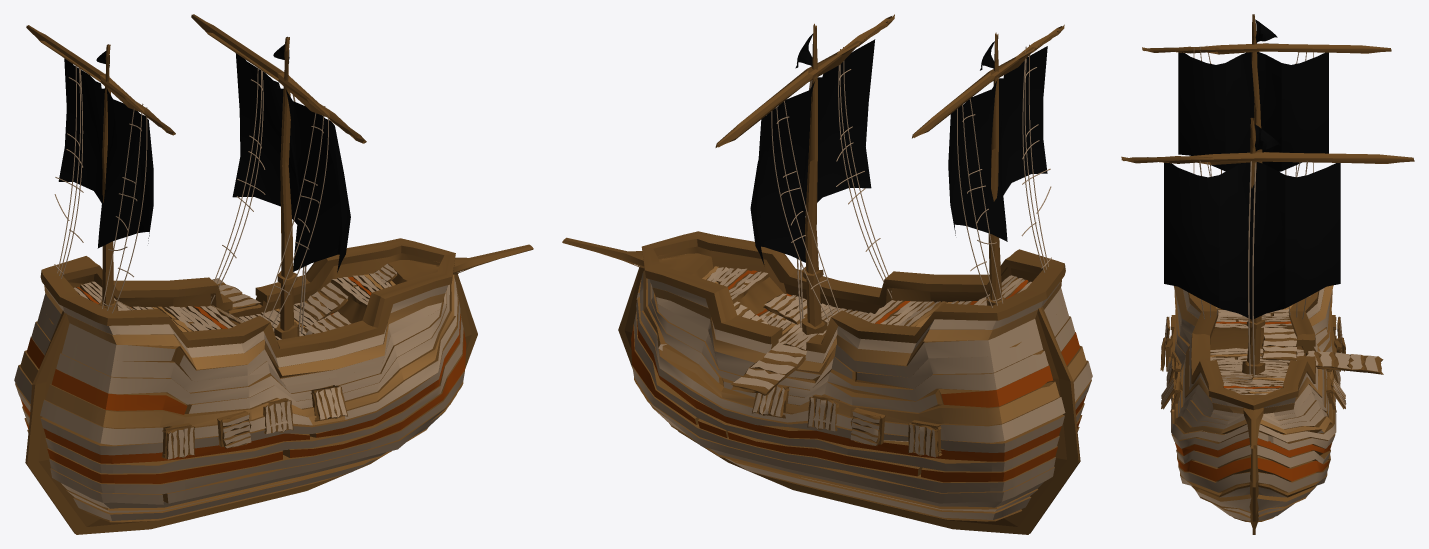
Rendered from piraten schip.glb.
3 renders of one model, left to right at view 1: azimuth 30°, elevation 25°; view 2: azimuth 150°, elevation 25°; view 3: azimuth 270°, elevation 25°, orthographic. The views are drawn at different scales.
Parts seen in each view (by area): view 1: Cube, Plane, Plane.002, Cube.001, Cylinder, NurbsPath.002, NurbsPath.003, Cylinder.001, Cylinder.003, Cylinder.002, Cube.010, Cube.004 (+4 smaller); view 2: Cube, Plane, Plane.002, Cube.001, Cylinder, NurbsPath.002, NurbsPath.003, Cylinder.001, Cube.006, Cylinder.002, Cylinder.003, Cube.010 (+4 smaller); view 3: Cube, Plane, Plane.002, Cylinder.001, Cylinder.003, Cube.006, Cube.002, Cylinder, Cube.022, Cube.001, Cylinder.002, Cube.010 (+4 smaller).
Boxes of the visible parts, x1,y1,x2,y2 form: Cube: (14,238,533,522); Plane: (232,53,350,272); Plane.002: (58,58,153,248); Cube.001: (25,274,477,534); Cylinder: (274,36,299,339); NurbsPath.002: (210,68,328,326); NurbsPath.003: (54,66,147,313); Cylinder.001: (191,14,366,143); Cylinder.003: (26,25,175,135); Cylinder.002: (98,44,118,311); Cube.010: (217,411,251,448); Cube.004: (297,282,348,320); Cube: (562,231,1092,521); Plane: (750,39,875,264); Plane.002: (948,46,1047,241); Cube.001: (618,267,1080,534); Cylinder: (802,23,827,334); NurbsPath.002: (771,47,892,321); NurbsPath.003: (957,44,1051,307); Cylinder.001: (715,14,894,147); Cube.006: (730,342,806,395); Cylinder.002: (986,32,1005,305); Cylinder.003: (912,24,1064,138); Cube.010: (850,407,885,446); Cube: (1167,285,1339,522); Plane: (1164,162,1340,319); Plane.002: (1178,52,1328,171); Cylinder.001: (1121,152,1414,164); Cylinder.003: (1142,43,1391,54); Cube.006: (1303,350,1383,374); Cube.002: (1261,327,1297,360); Cylinder: (1242,117,1265,374); Cube.022: (1161,378,1346,412); Cube.001: (1249,444,1259,534); Cylinder.002: (1251,14,1262,163); Cube.010: (1160,337,1345,371).
Size of the model in its own units: 3.39 by 3.18 by 2.02.
